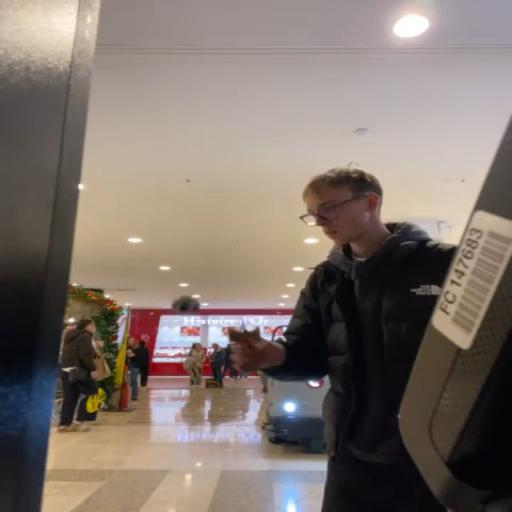kendama_ball: (172, 296, 199, 315)
